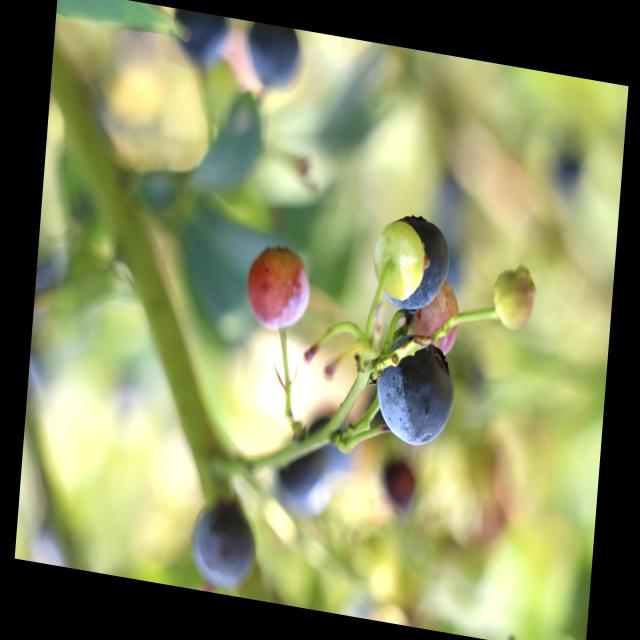blueberry: (365, 326, 459, 456), (382, 207, 459, 321), (184, 493, 260, 590), (266, 437, 338, 523), (241, 20, 304, 96), (164, 7, 236, 73)
blueberry-halfripe: (244, 238, 311, 336), (414, 280, 462, 356)
blueberry-unripe: (371, 217, 425, 303), (492, 265, 534, 332)
